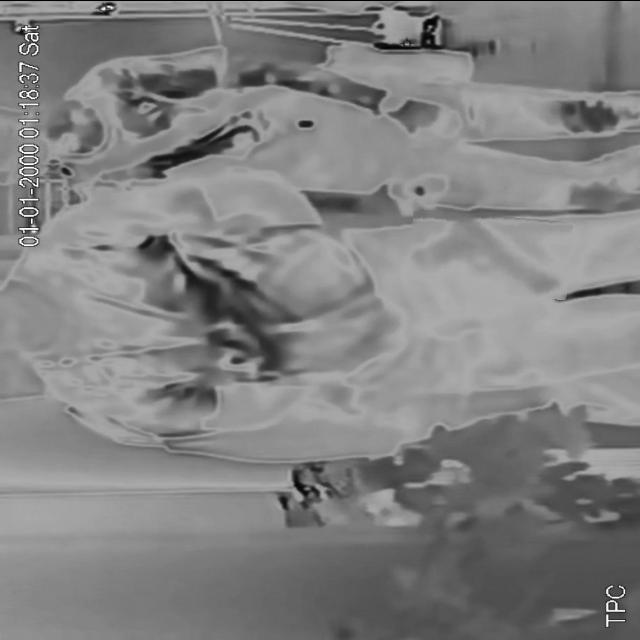Weapon: (408, 211, 572, 295)
